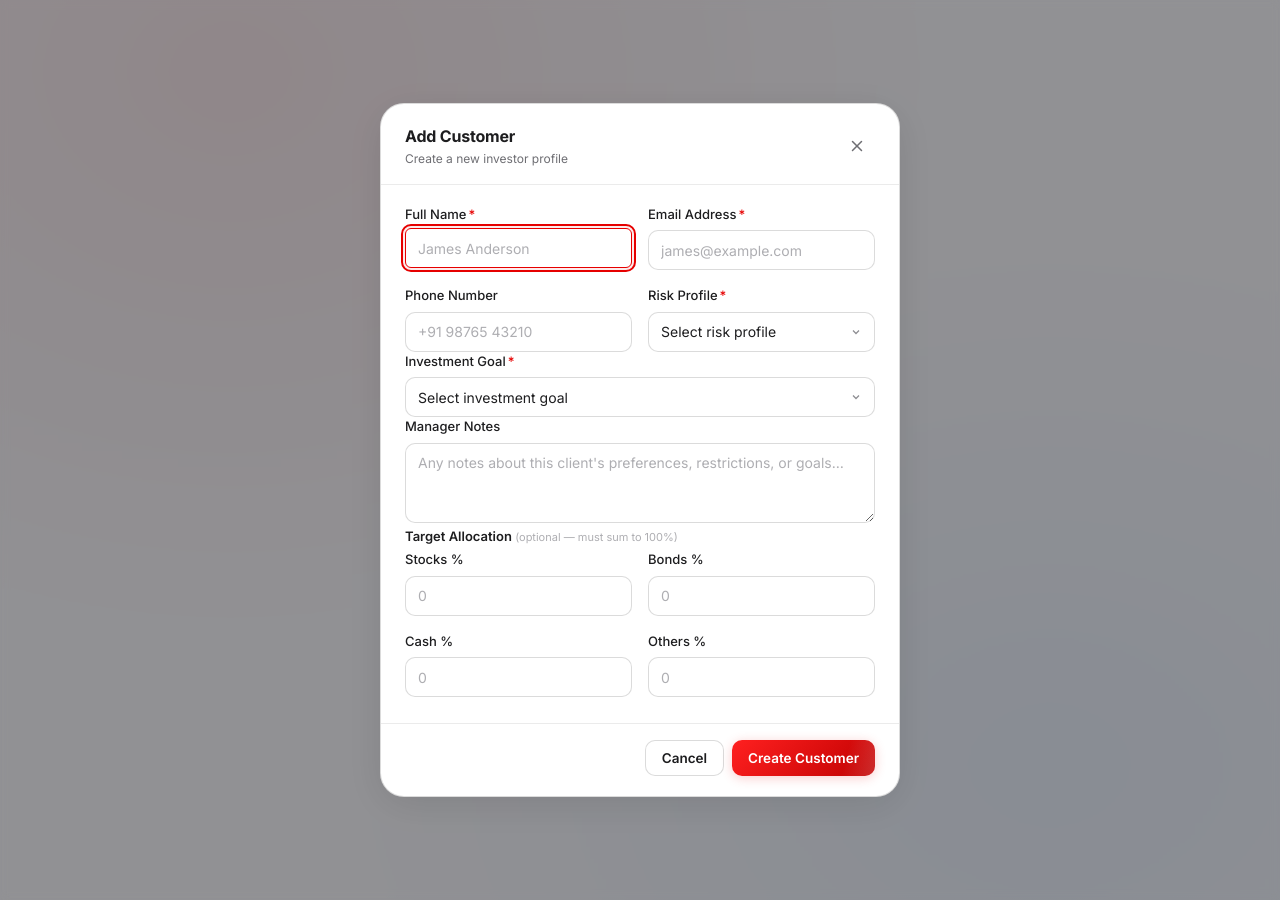
CustomerForm — target allocation › shows allocation total when values are entered
Step 1. Type "60" into the number field with placeholder "0" below "Stocks" → (518, 596), box [405, 576, 632, 616]
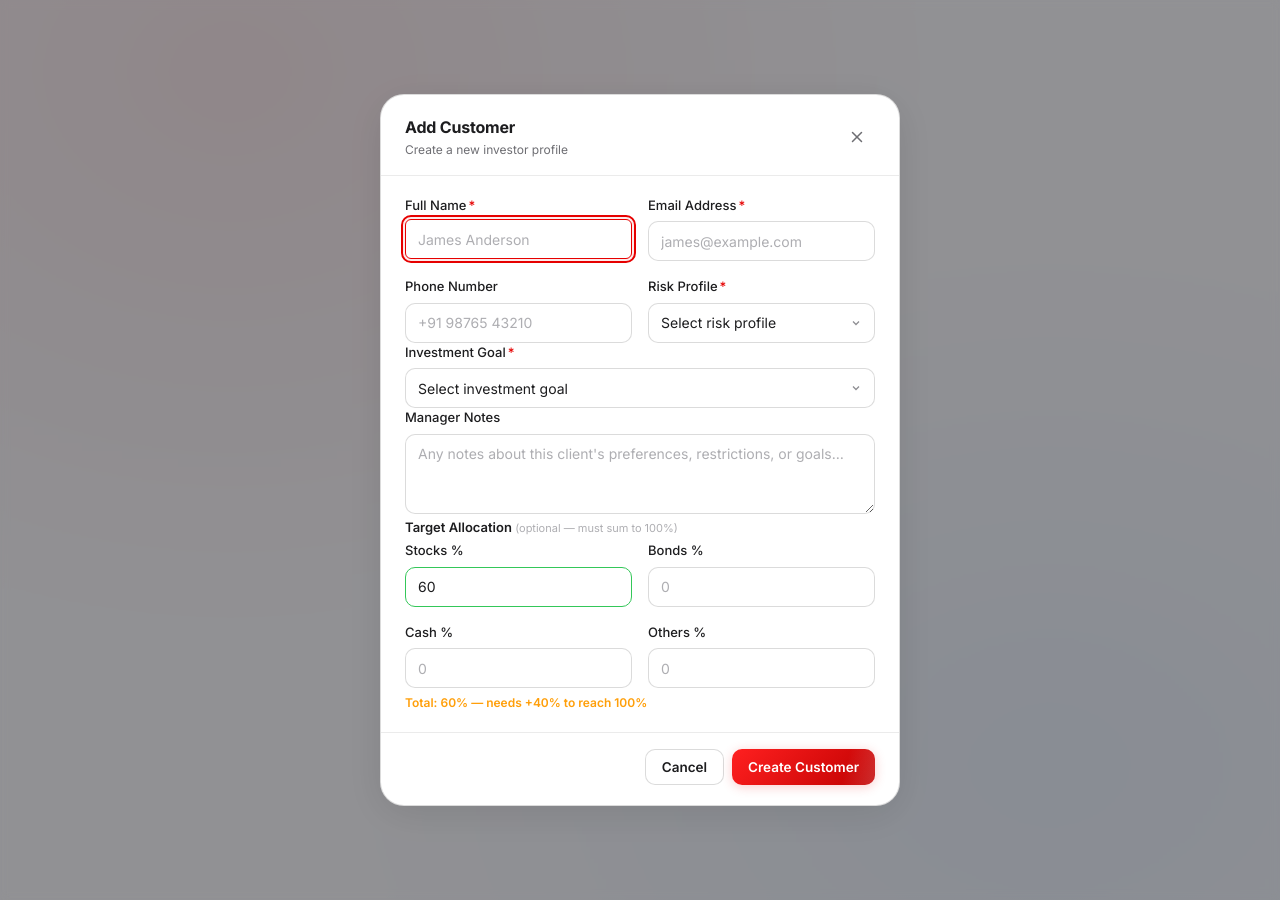
Expected: the text "Total: 60% — needs +40% to reach 100%" is shown, [405, 695, 647, 710]
